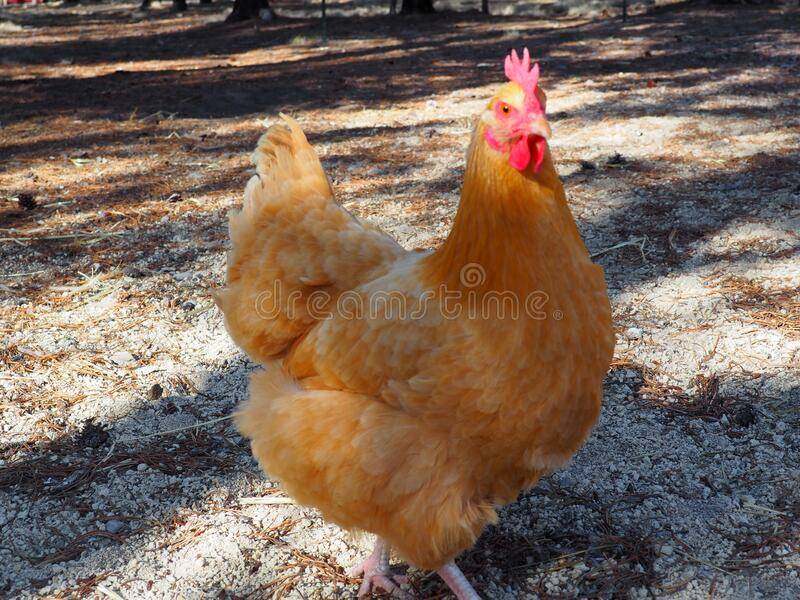buff: (219, 43, 615, 553)
